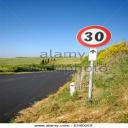speed_limit_30: (77, 25, 111, 47)
